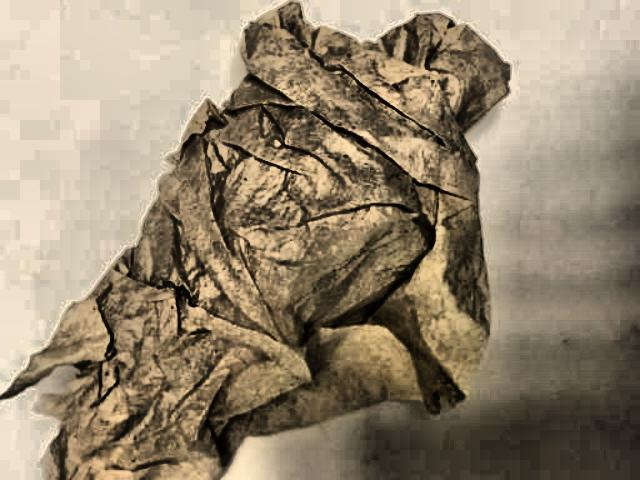Paper: (2, 6, 628, 480)
